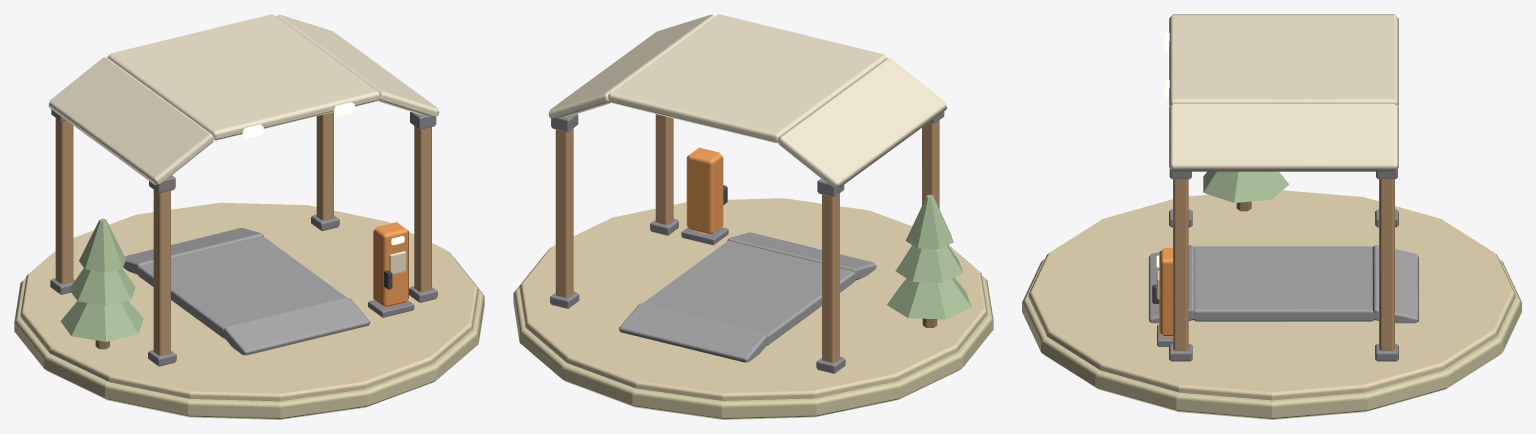
The model's file is workshop_point.glb.
3 renders of one model, left to right at view 1: azimuth 30°, elevation 25°; view 2: azimuth 150°, elevation 25°; view 3: azimuth 270°, elevation 25°, orthographic. The views are drawn at different scales.
Visible parts, largest first — view 1: MerchantShop; view 2: MerchantShop; view 3: MerchantShop.
Boxes of the visible parts, box(x1,y1,x2,y2) form: MerchantShop: box(14, 14, 484, 419); MerchantShop: box(513, 14, 993, 419); MerchantShop: box(1022, 14, 1521, 419).
Size of the model in its own units: 6.3 by 3.61 by 6.3.
